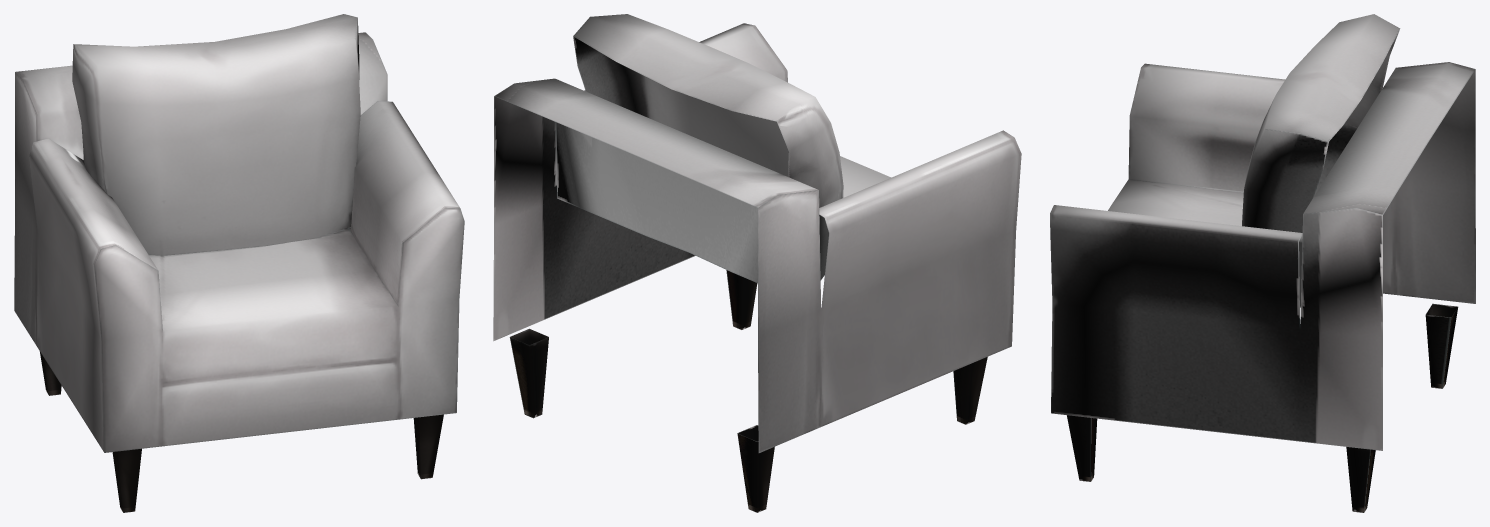
File: bed_modern.FBX
The picture shows the model from 3 angles, left to right: view 1: azimuth 30°, elevation 25°; view 2: azimuth 150°, elevation 25°; view 3: azimuth 270°, elevation 25°; orthographic projection. The views are drawn at different scales.
Parts seen in each view (by area): view 1: bed_modern001; view 2: bed_modern001; view 3: bed_modern001.
Part boxes in pixels (x1=…): bed_modern001: x1=14, y1=14, x2=464, y2=512; bed_modern001: x1=493, y1=14, x2=1021, y2=512; bed_modern001: x1=1050, y1=14, x2=1475, y2=512.
Bounding box in the file's own units: 1.91 × 1.73 × 1.82.
